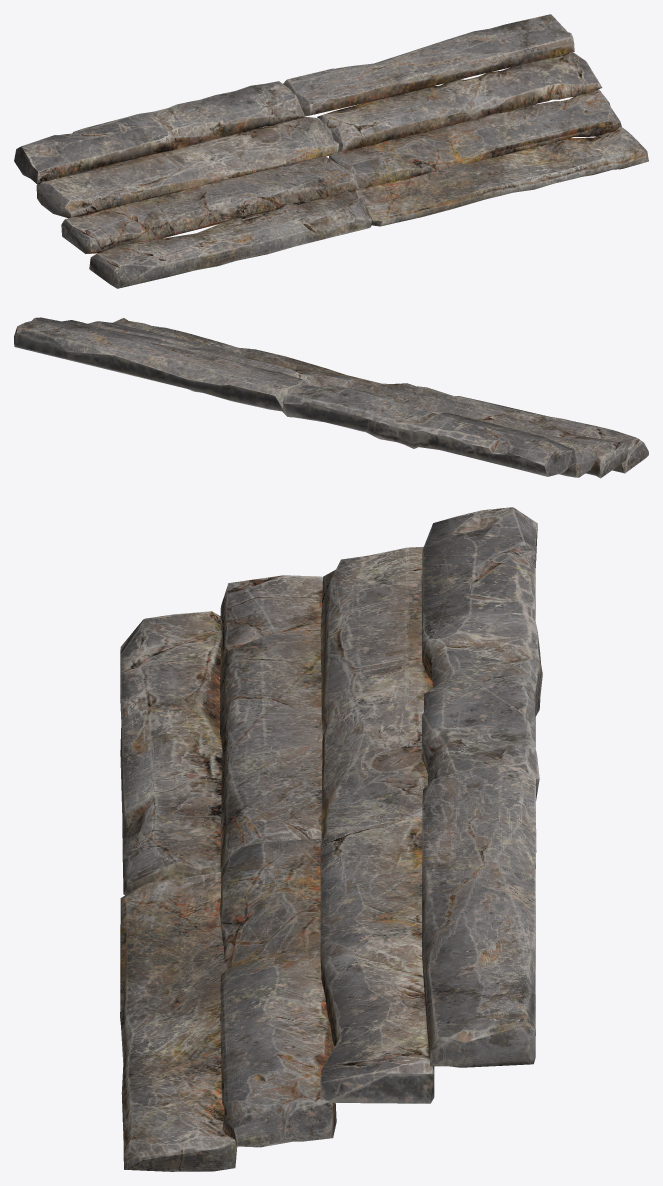
Rendered from SM_Stairs02.FBX.
The picture shows the model from 3 angles, top to bottom: view 1: azimuth 30°, elevation 25°; view 2: azimuth 150°, elevation 25°; view 3: azimuth 270°, elevation 25°; orthographic projection. The views are drawn at different scales.
Parts seen in each view (by area): view 1: SM_Stairs02; view 2: SM_Stairs02; view 3: SM_Stairs02.
Part boxes in pixels (x1,y1,x2,y2): SM_Stairs02: (14, 14, 648, 288); SM_Stairs02: (14, 317, 648, 478); SM_Stairs02: (120, 507, 542, 1171).
Bounding box in the file's own units: 1194 × 404 × 163.
